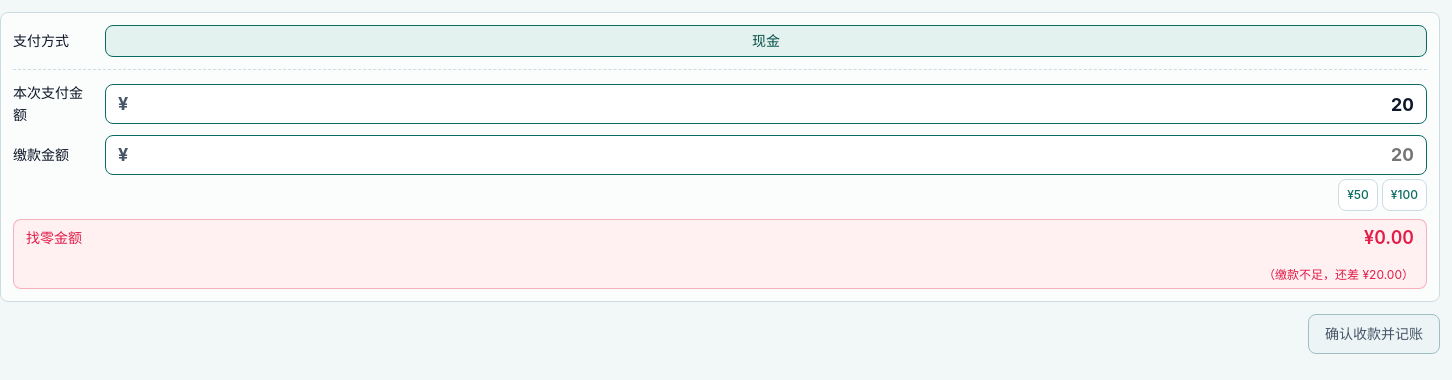
Scenario: SettlementPaymentPanel payment recovery › calculates cash change and validates tendered amount for cash payments
The image size is (1452, 380).
Expected: the text "缴款金额" is shown, [13,146,69,163]
Expected: the text "¥0.00" is shown, [1364,227,1414,248]
Step 1. Click the button "¥50" → (1358, 195), box [1338,179,1378,211]
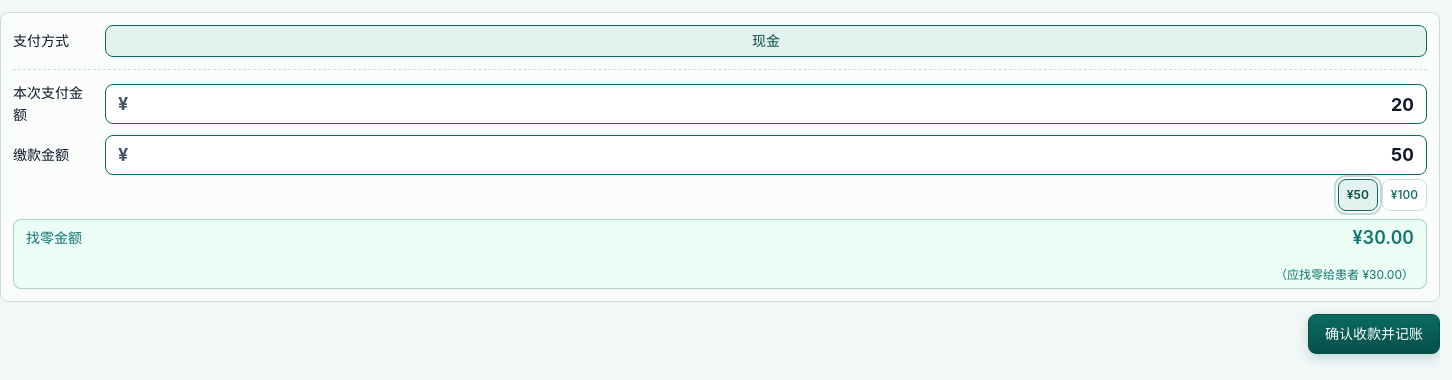
Expected: the text "¥30.00" is shown, [1352,227,1414,248]
Expected: the text "（应找零给患者 ¥30.00）" is shown, [1275,267,1414,282]
Step 2. Replace the text in the number field with placeholder "20" with "10" → (773, 155), box [132,136,1414,174]
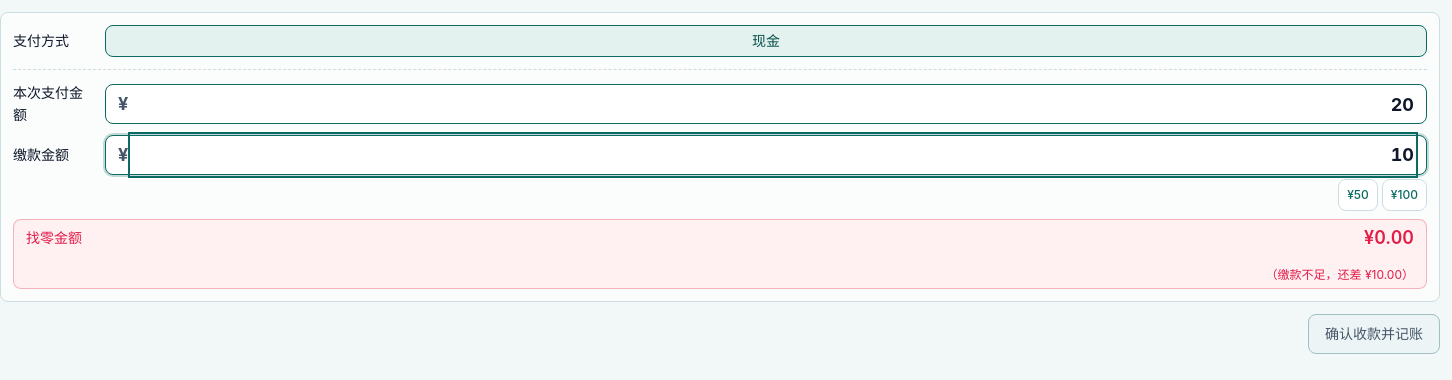
Expected: the button "确认收款并记账" is disabled, [1308,314,1440,354]
Expected: the text "（缴款不足，还差 ¥10.00）" is shown, [1266,267,1414,282]
